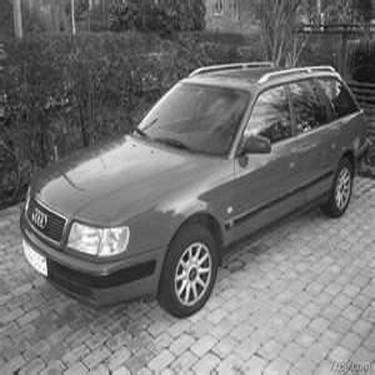car: (3, 51, 372, 320)
